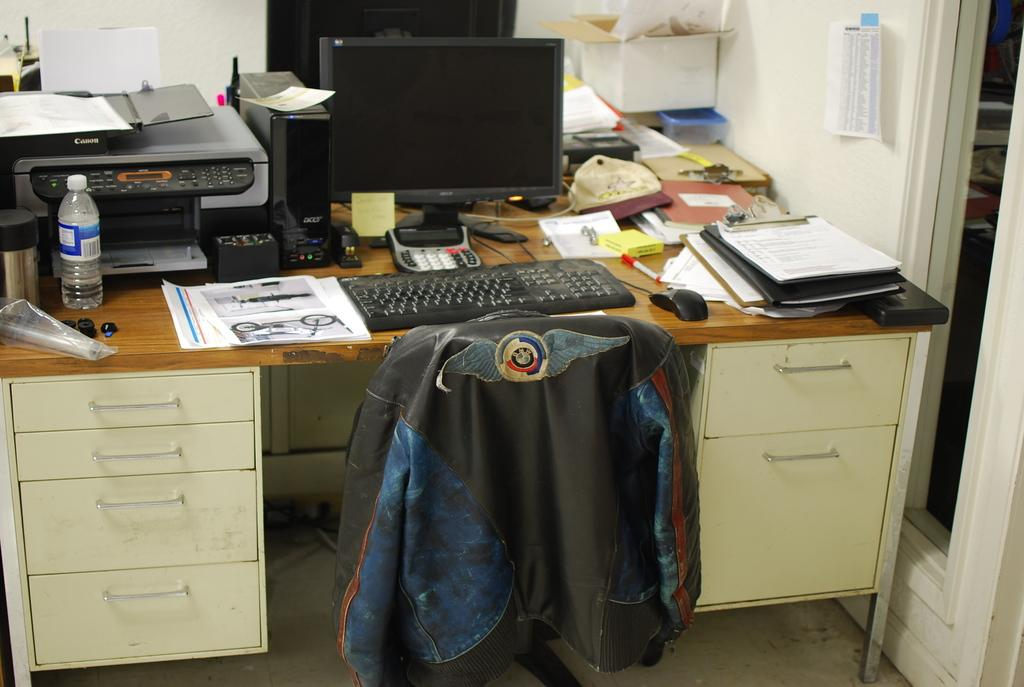cabinet_door: (710, 437, 874, 583), (24, 480, 258, 556), (36, 581, 257, 643), (719, 350, 895, 423), (35, 432, 237, 473), (29, 384, 244, 422)
handle: (91, 438, 188, 466), (90, 487, 184, 512), (760, 448, 846, 474), (770, 354, 856, 378), (91, 393, 180, 415), (104, 584, 190, 605)
